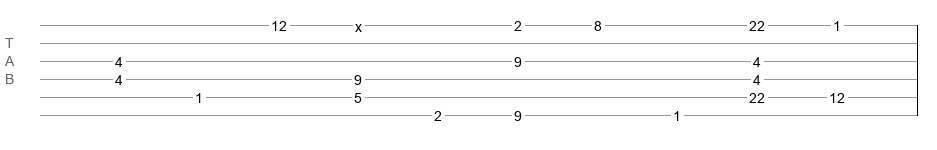1: (195, 90, 203, 100), (673, 108, 681, 118), (833, 18, 841, 28)
12: (271, 18, 287, 28), (829, 90, 845, 100)
2: (434, 108, 442, 118), (514, 18, 522, 28)
22: (749, 18, 765, 28), (749, 90, 765, 100)
4: (115, 54, 123, 64), (115, 72, 123, 82), (753, 54, 761, 64), (753, 72, 761, 82)
5: (354, 90, 362, 100)
8: (594, 18, 602, 28)
9: (354, 72, 362, 82), (514, 54, 522, 64), (514, 108, 522, 118)
x: (355, 19, 362, 27)
